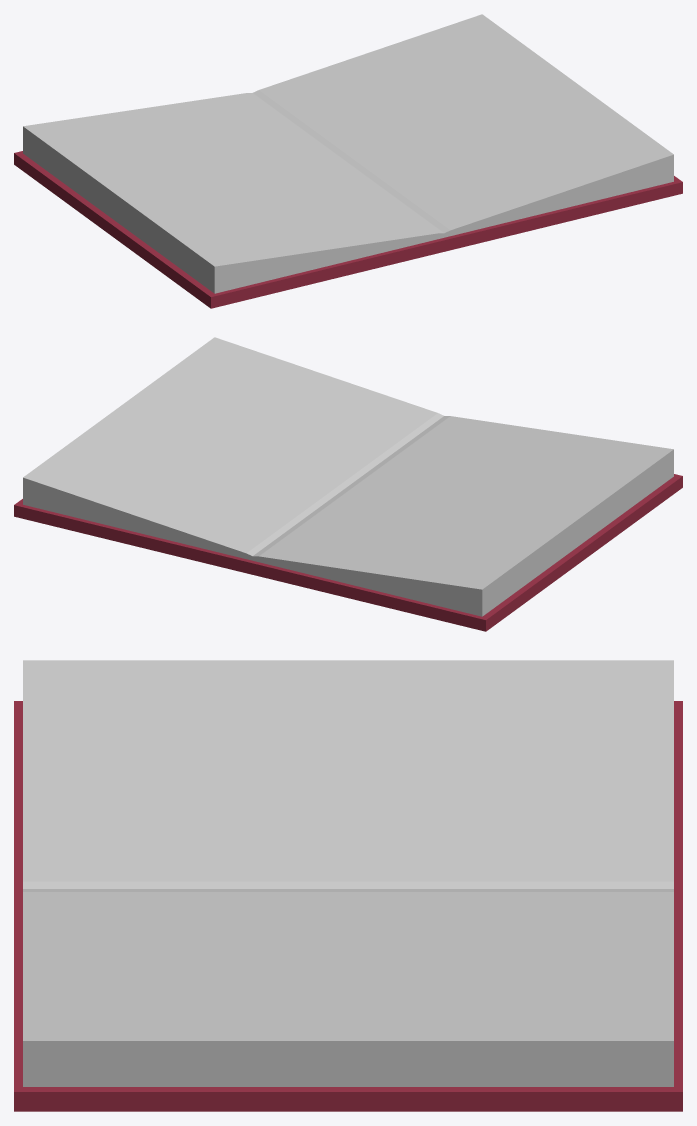
Rendered from mod_book_open.fbx.
The picture shows the model from 3 angles, top to bottom: view 1: azimuth 30°, elevation 25°; view 2: azimuth 150°, elevation 25°; view 3: azimuth 270°, elevation 25°; orthographic projection. The views are drawn at different scales.
Parts seen in each view (by area): view 1: mod_book_open; view 2: mod_book_open; view 3: mod_book_open.
Boxes of the visible parts, x1=… form: mod_book_open: x1=14, y1=14, x2=682, y2=308; mod_book_open: x1=14, y1=337, x2=682, y2=631; mod_book_open: x1=14, y1=660, x2=682, y2=1111.
Bounding box in the file's own units: 42.56 × 3.33 × 30.77.
